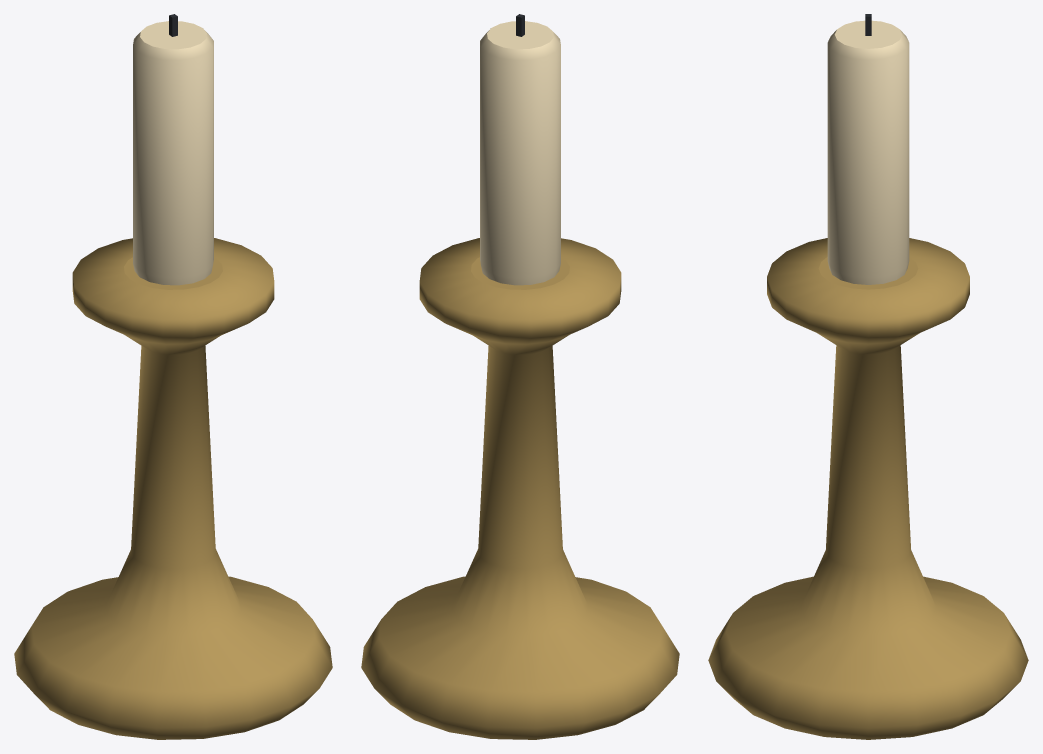
File: rpg-mansion-candlestick-01.glb
3 renders of one model, left to right at view 1: azimuth 30°, elevation 25°; view 2: azimuth 150°, elevation 25°; view 3: azimuth 270°, elevation 25°, orthographic.
Parts seen in each view (by area): view 1: rpg-mansion-candlestick-01; view 2: rpg-mansion-candlestick-01; view 3: rpg-mansion-candlestick-01.
Part boxes in pixels (x1,y1,x2,y2): rpg-mansion-candlestick-01: [14, 14, 332, 739]; rpg-mansion-candlestick-01: [361, 14, 679, 739]; rpg-mansion-candlestick-01: [708, 14, 1028, 739].
Bounding box in the file's own units: 0.18 × 0.412 × 0.18.
